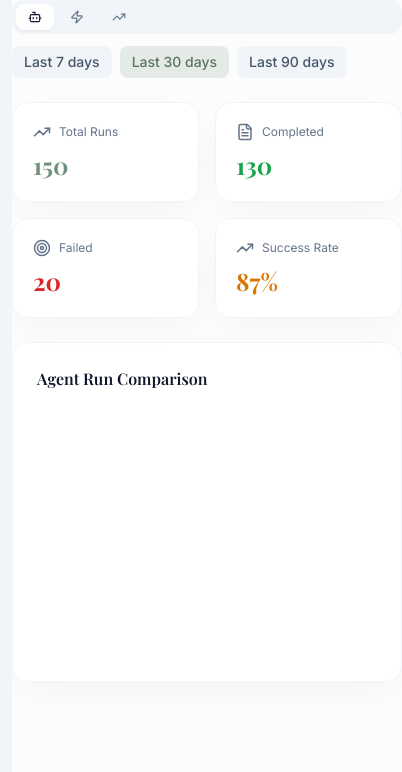
AIPerformancePage › shows automation KPI grid when on automations tab
The image size is (402, 772).
Expected: the element with test id "perf-tab-bar" is shown, [12,0,401,34]
Click the button with test id "tab-automations" at {"x": 77, "y": 17}, box [58,4,96,30]
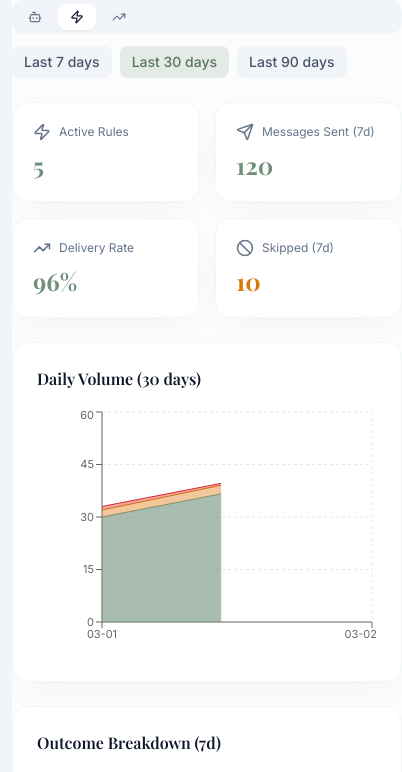
Expected: the element with test id "automation-kpi-grid" is shown, [12,102,401,318]
Expected: the text "Active Rules" is shown, [59,124,129,140]
Expected: the text "96%" is shown, [33,265,77,297]
